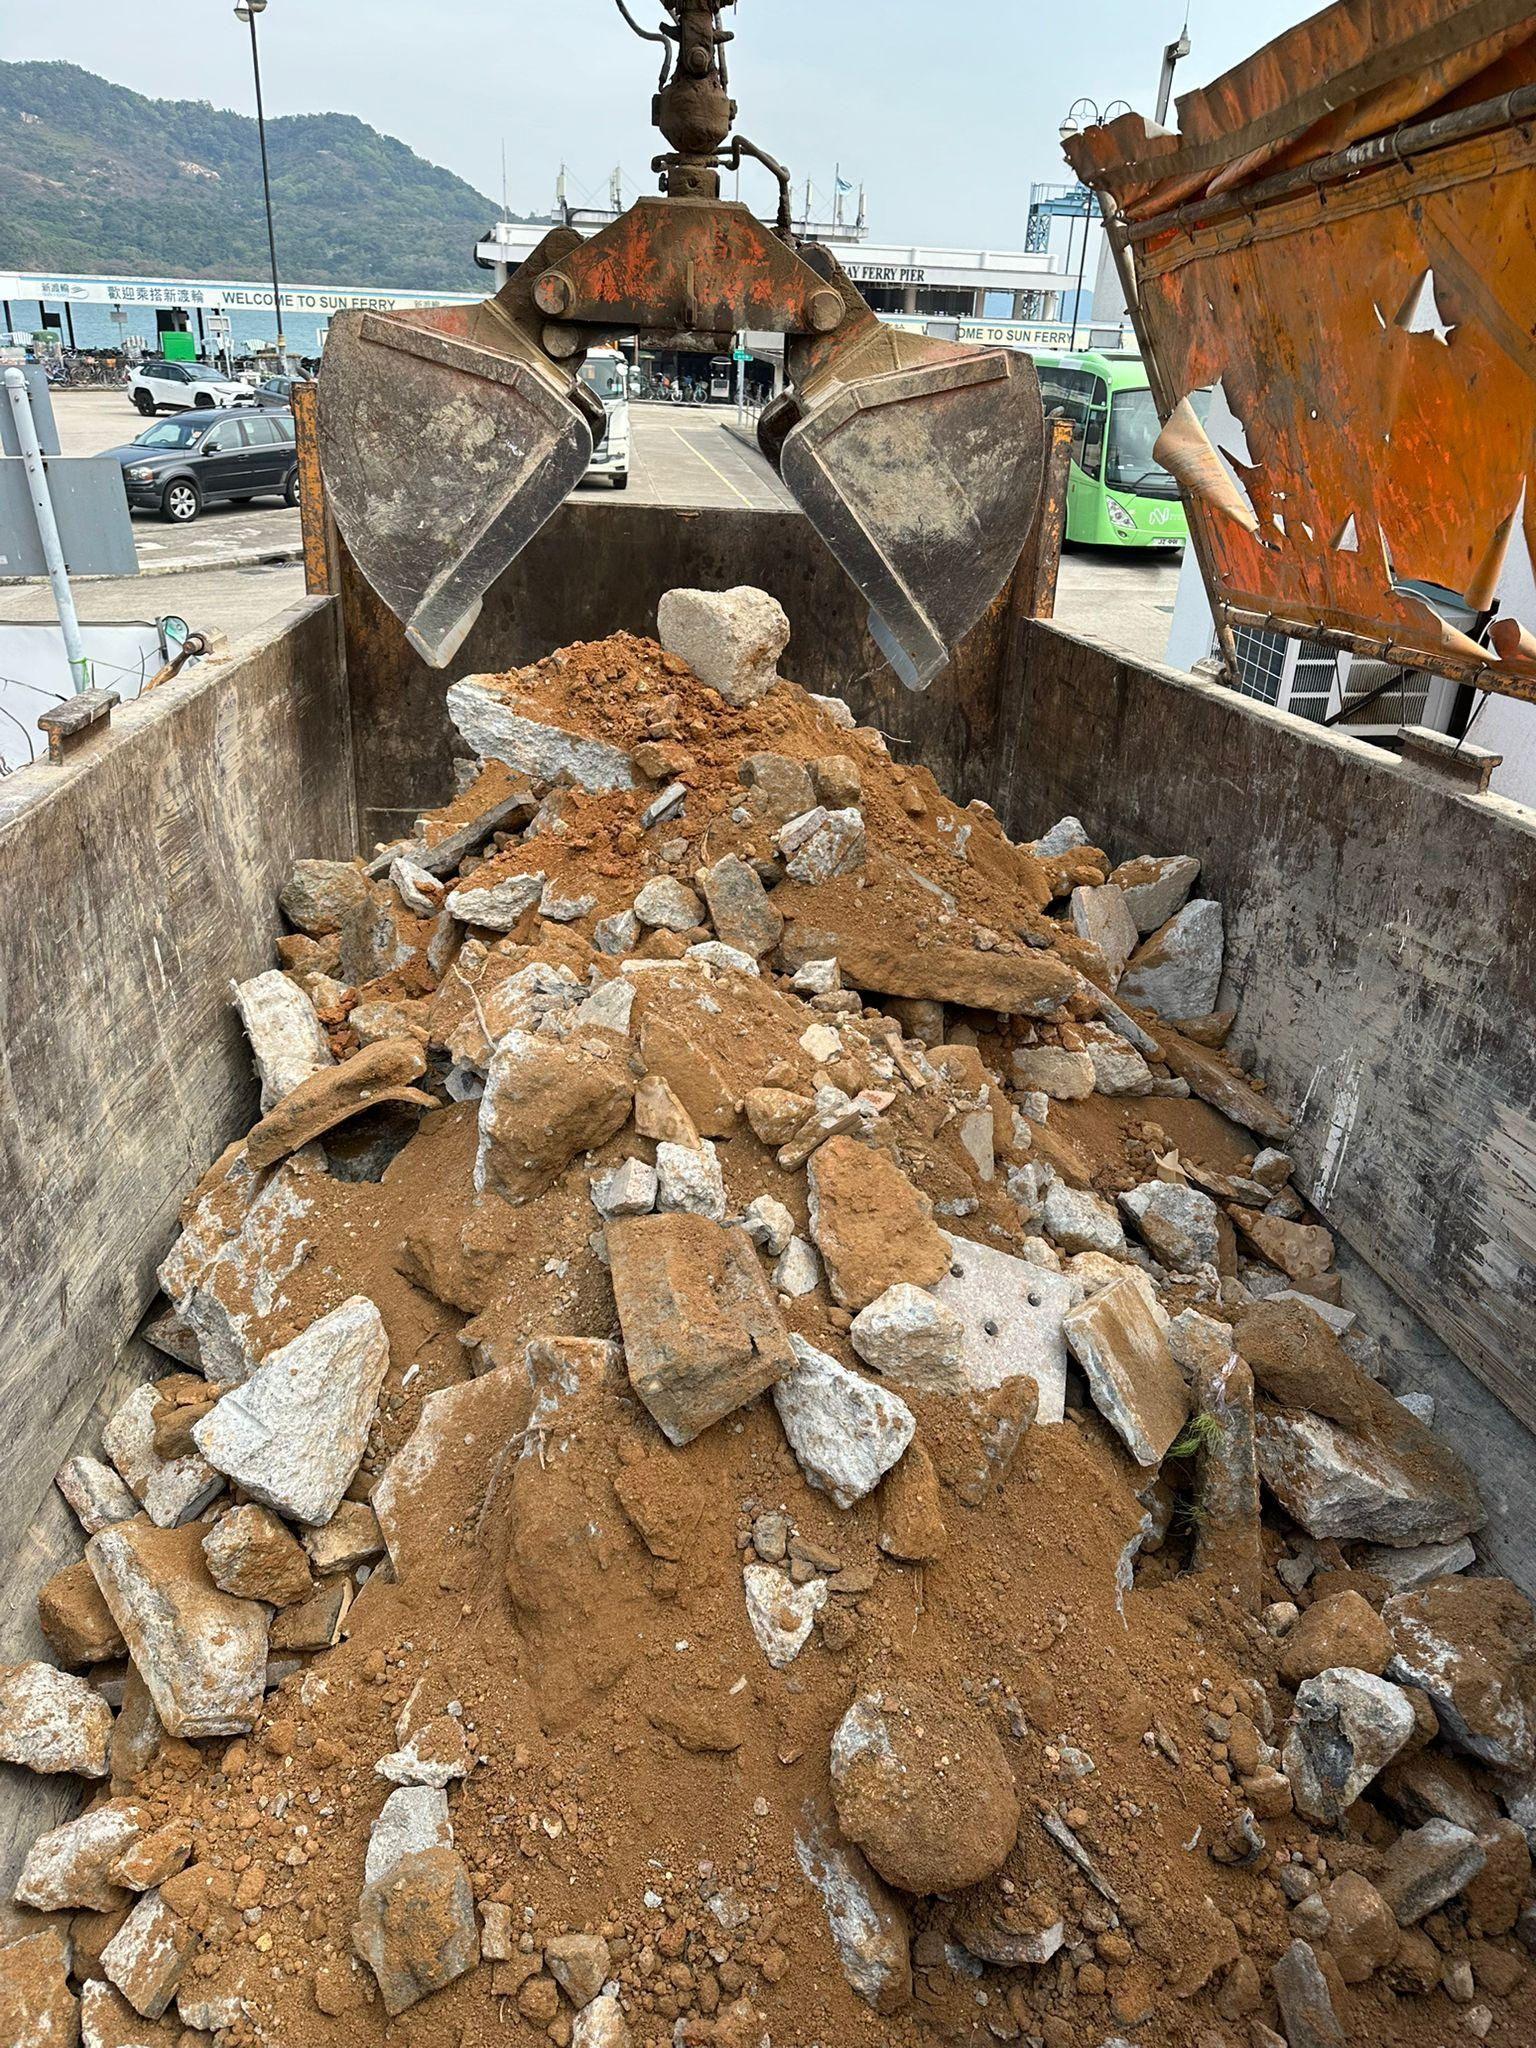dry: (63, 600, 1504, 2021)
